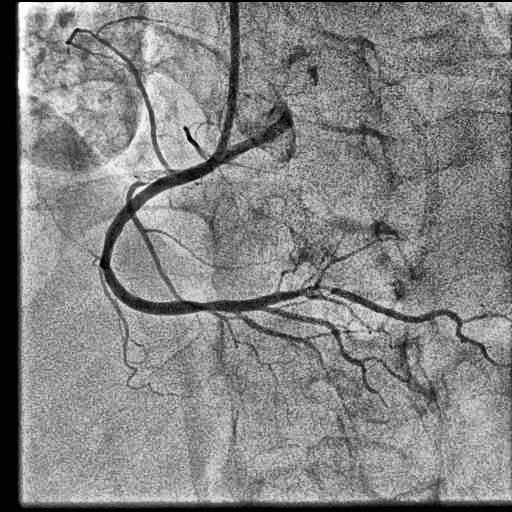pborca: (258, 286, 509, 367)
pda: (261, 307, 376, 393)
rca: (100, 153, 260, 315)
